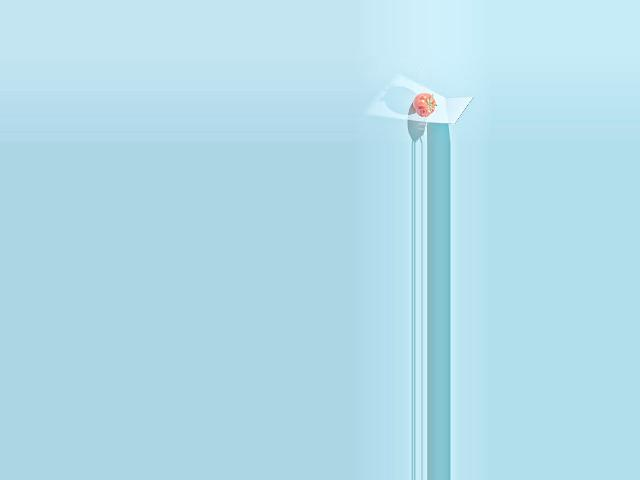tomato: (412, 93, 435, 117)
